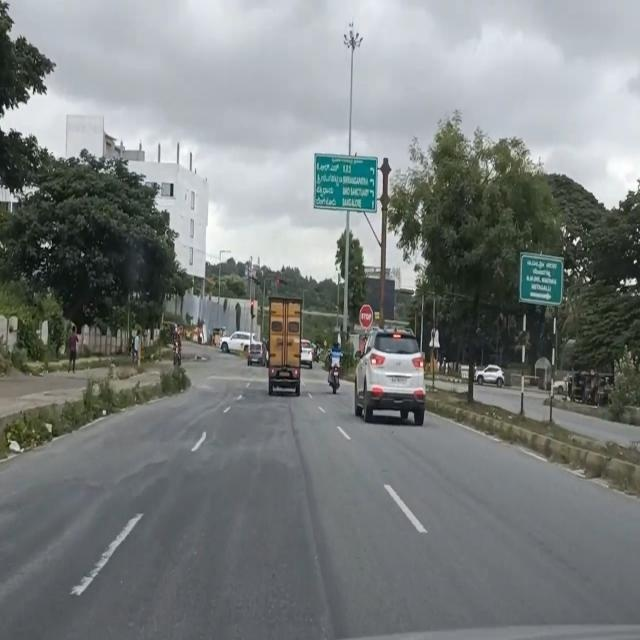bien_cam: (357, 302, 375, 331)
